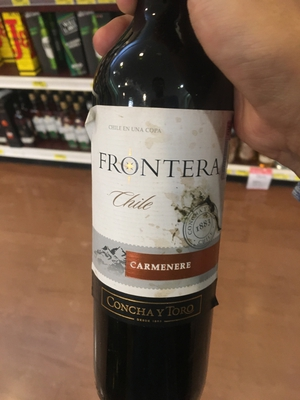frontera carmenere: (87, 15, 238, 400)
